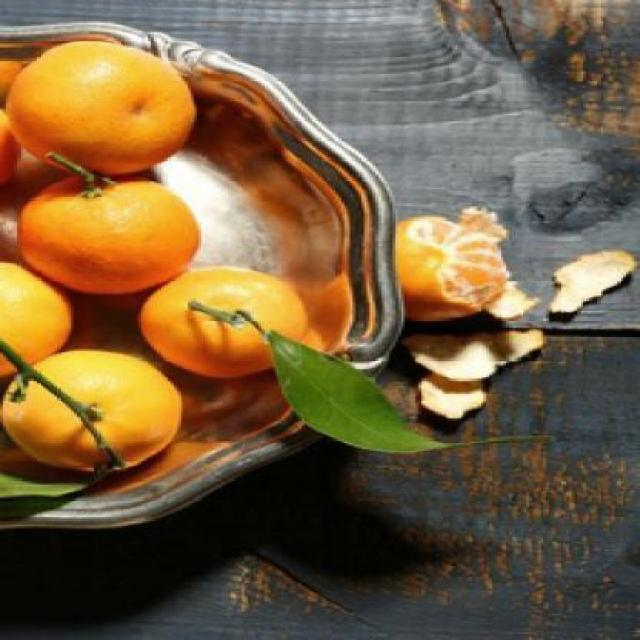Jeruk Sudah Matang: (2, 44, 196, 170), (17, 180, 197, 294), (15, 350, 179, 472), (136, 268, 296, 379), (0, 255, 83, 388)
